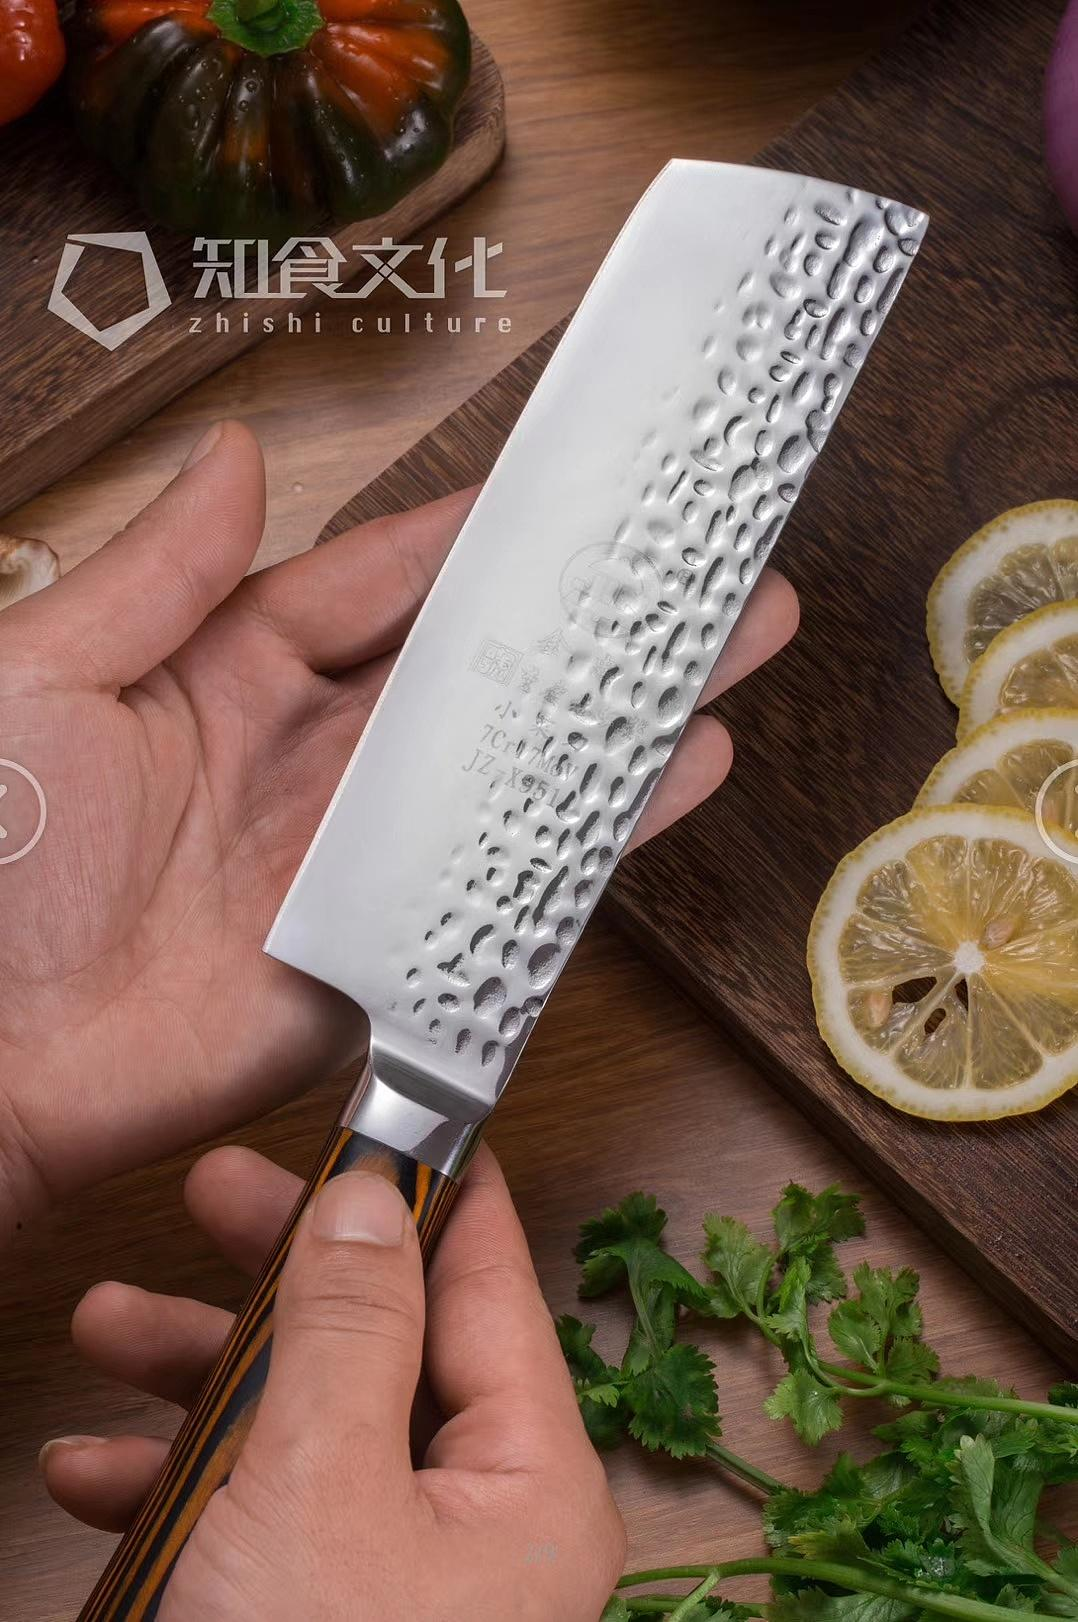knife: (269, 106, 978, 1346)
